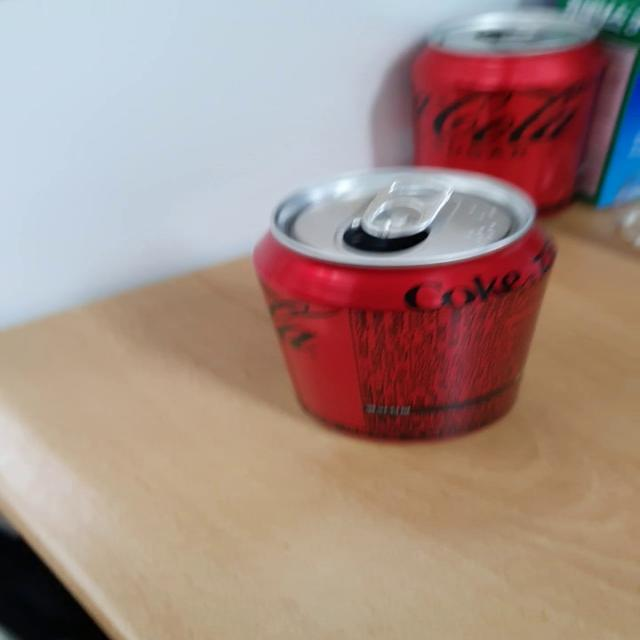coca-cola: (227, 156, 577, 460), (403, 5, 625, 235)
